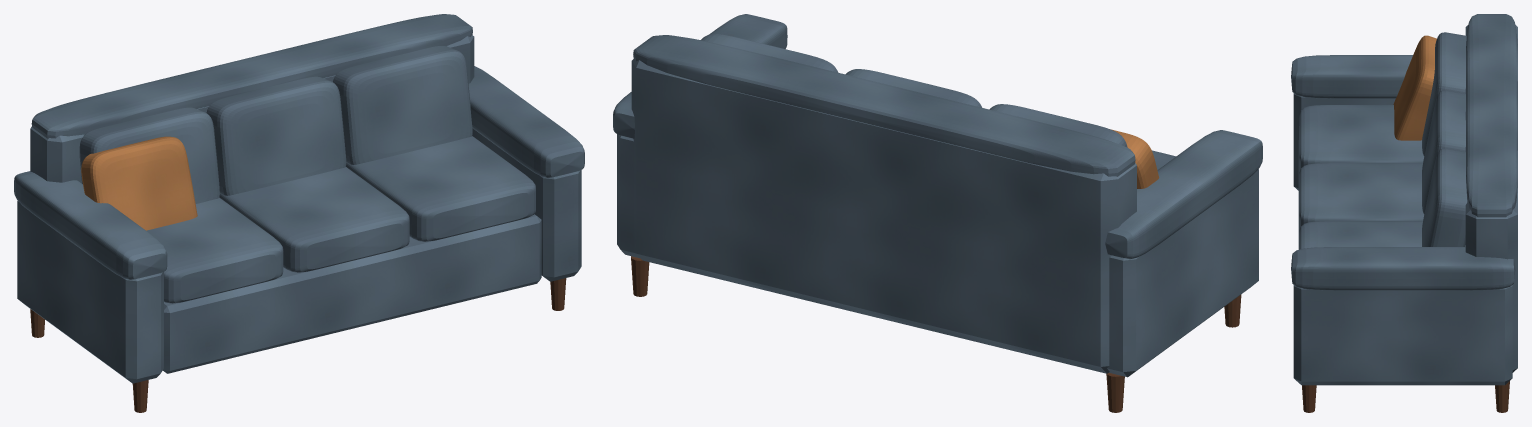
The model's file is sofa.glb.
3 views of the same model, side by side, from view 1: azimuth 30°, elevation 25°; view 2: azimuth 150°, elevation 25°; view 3: azimuth 270°, elevation 25° (orthographic). The views are drawn at different scales.
Visible parts, largest first — view 1: sofa_tecido_sofa, sofa_tecido_almofada, sofa_madeira_escura; view 2: sofa_tecido_sofa, sofa_madeira_escura, sofa_tecido_almofada; view 3: sofa_tecido_sofa, sofa_tecido_almofada, sofa_madeira_escura.
Boxes of the visible parts, bbox=[...] form: sofa_tecido_sofa: bbox=[14, 14, 584, 383]; sofa_tecido_almofada: bbox=[81, 136, 197, 230]; sofa_madeira_escura: bbox=[30, 278, 566, 412]; sofa_tecido_sofa: bbox=[613, 14, 1262, 377]; sofa_madeira_escura: bbox=[631, 256, 1241, 412]; sofa_tecido_almofada: bbox=[1111, 129, 1159, 188]; sofa_tecido_sofa: bbox=[1291, 14, 1517, 385]; sofa_tecido_almofada: bbox=[1393, 35, 1436, 140]; sofa_madeira_escura: bbox=[1302, 381, 1509, 412].
Bounding box in the file's own units: 1.93 × 0.8798 × 0.87.
Materials: 3 (3 with a texture image).
